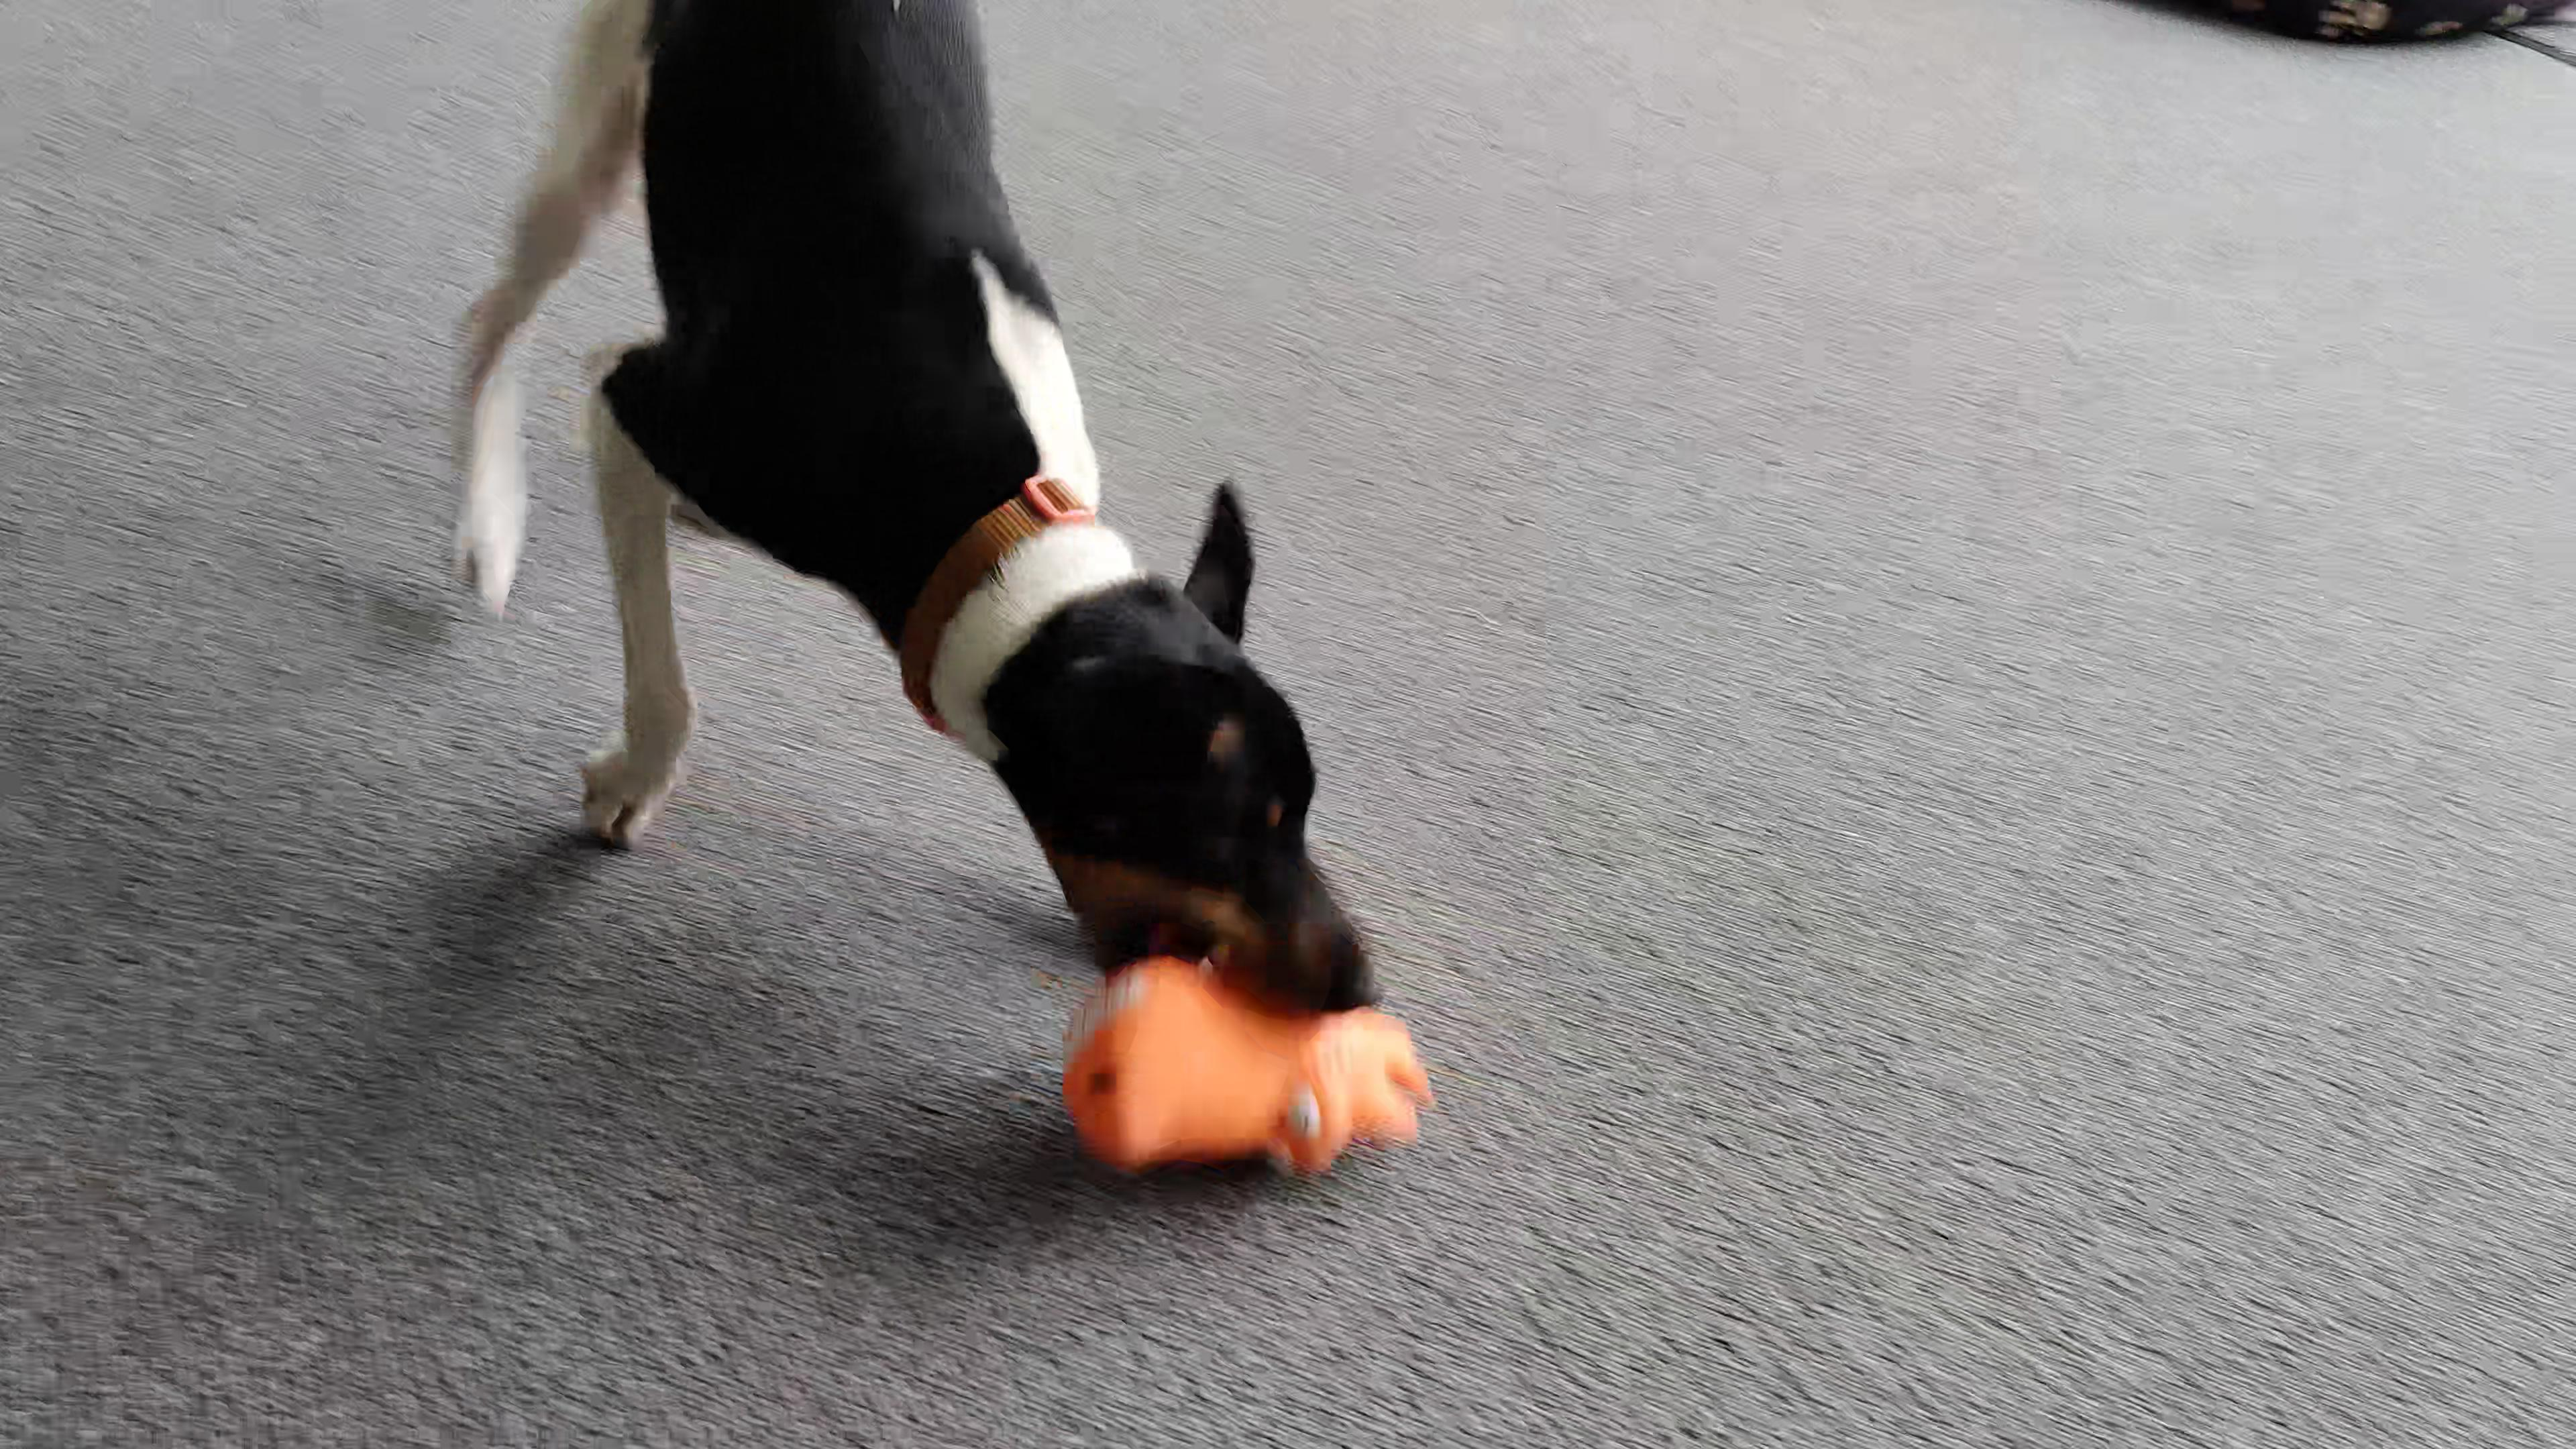Dog: (416, 0, 1401, 1021)
